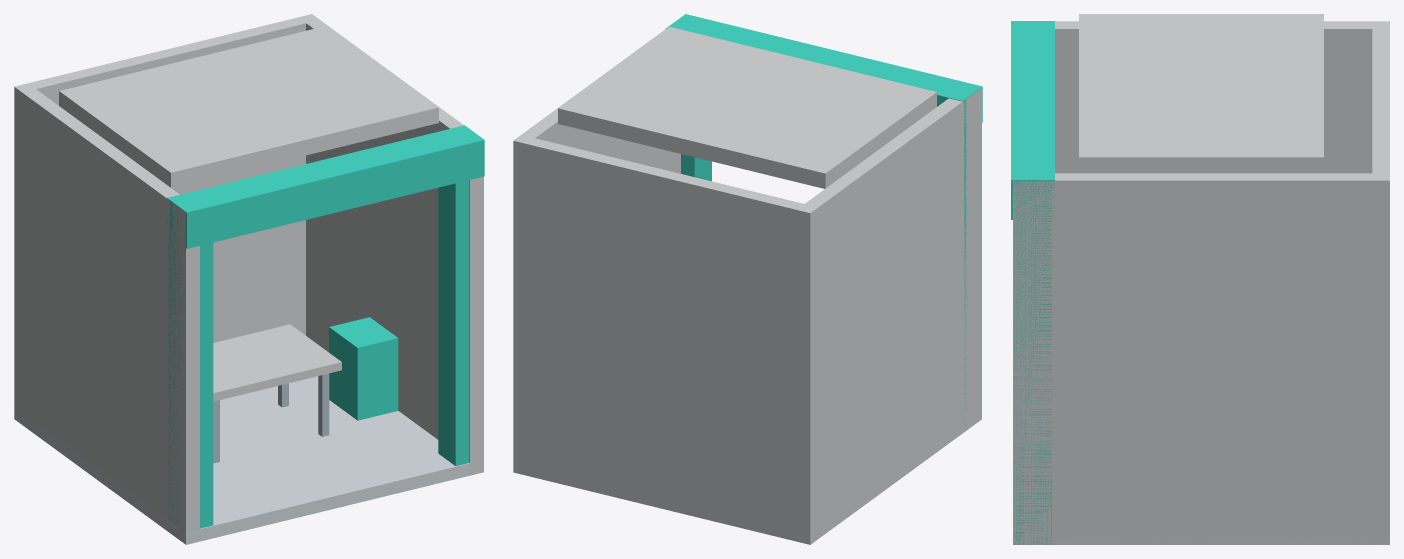
3 views of the same model, side by side, from view 1: azimuth 30°, elevation 25°; view 2: azimuth 150°, elevation 25°; view 3: azimuth 270°, elevation 25° (orthographic). The views are drawn at different scales.
Visible parts, largest first — view 1: Exhibition Booth Concept; view 2: Exhibition Booth Concept; view 3: Exhibition Booth Concept.
Boxes of the visible parts, <box> form: Exhibition Booth Concept: <box>14,14,484,544</box>; Exhibition Booth Concept: <box>513,14,982,544</box>; Exhibition Booth Concept: <box>1011,14,1389,544</box>.
Bounding box in the file's own units: 3 × 3.34 × 3.01.
